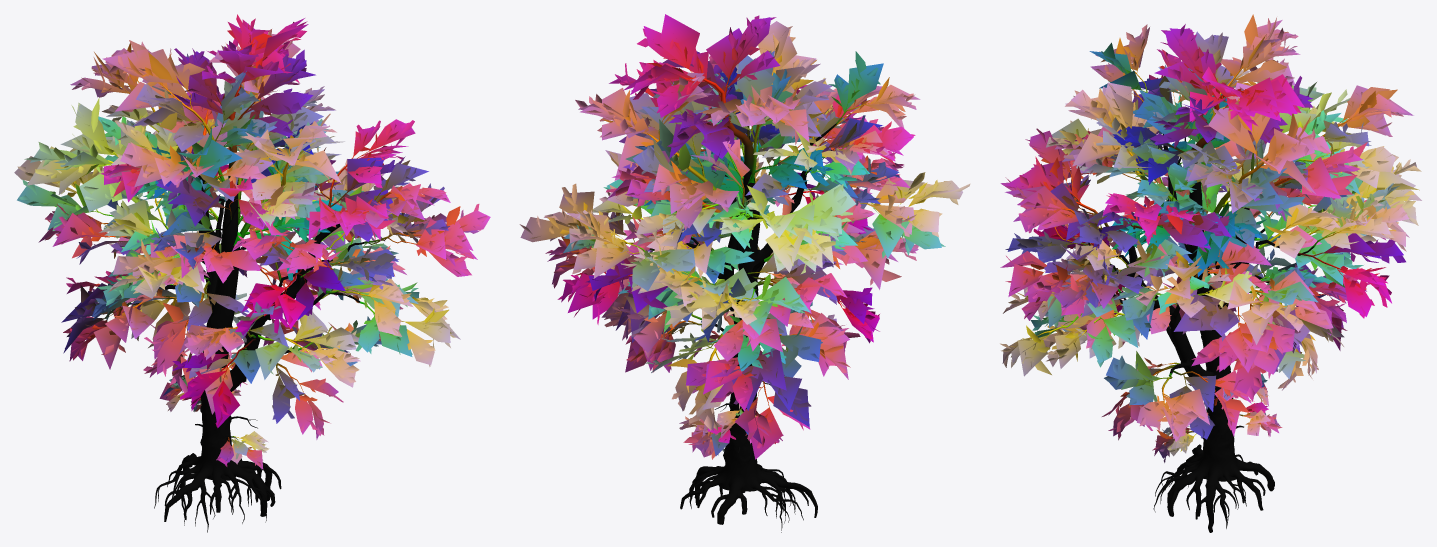
The model's file is SM_EuropeanBeech_XL_02.fbx.
3 renders of one model, left to right at view 1: azimuth 30°, elevation 25°; view 2: azimuth 150°, elevation 25°; view 3: azimuth 270°, elevation 25°, orthographic.
Parts seen in each view (by area): view 1: SM_EuropeanBeech_XL_02_LOD0; view 2: SM_EuropeanBeech_XL_02_LOD0; view 3: SM_EuropeanBeech_XL_02_LOD0.
Part boxes in pixels (x1,y1,x2,y2): SM_EuropeanBeech_XL_02_LOD0: [14, 14, 490, 532]; SM_EuropeanBeech_XL_02_LOD0: [519, 14, 970, 532]; SM_EuropeanBeech_XL_02_LOD0: [1000, 14, 1421, 532].
Size of the model in its own units: 1736 by 1839 by 2348.
